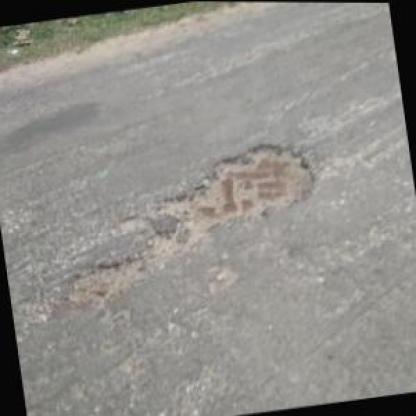pothole: (136, 132, 329, 265), (60, 251, 157, 315)
